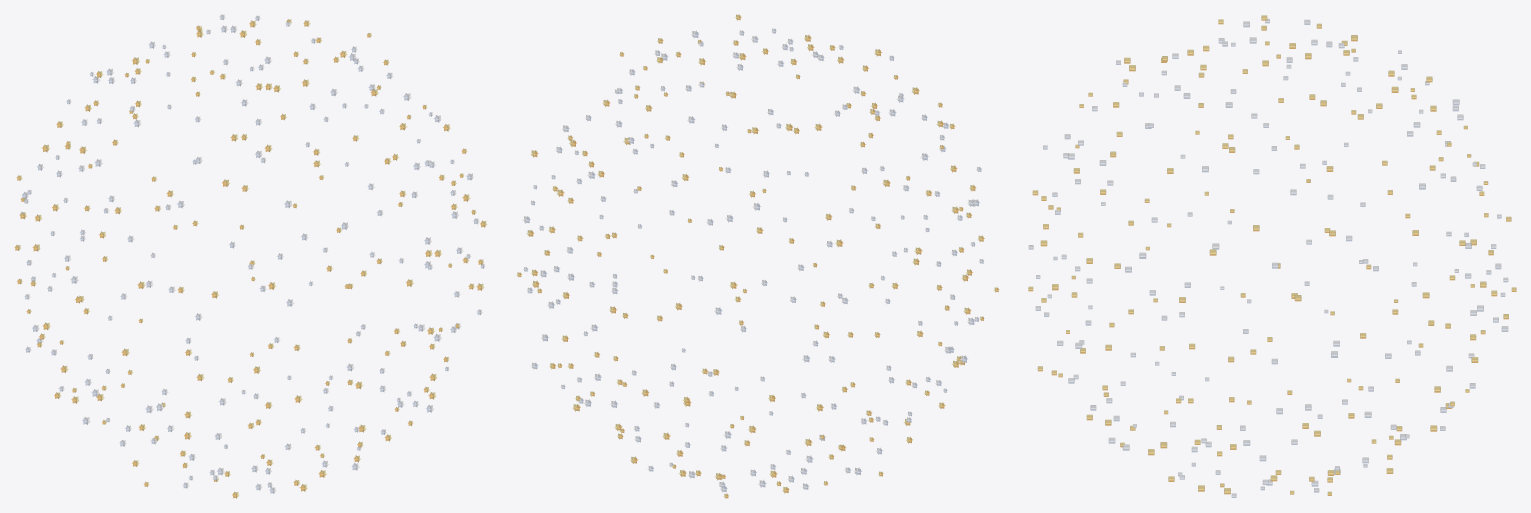
The model's file is fw_peony_red_gold_c.glb.
3 renders of one model, left to right at view 1: azimuth 30°, elevation 25°; view 2: azimuth 150°, elevation 25°; view 3: azimuth 270°, elevation 25°, orthographic. The views are drawn at different scales.
Parts seen in each view (by area): view 1: spire; view 2: spire; view 3: spire.
Part boxes in pixels (<box>): spire: <box>14,14,487,498</box>; spire: <box>517,14,999,498</box>; spire: <box>1028,15,1516,497</box>.
Bounding box in the file's own units: 23.9 × 23.57 × 23.57.
Materials: 2 (2 with a texture image).
